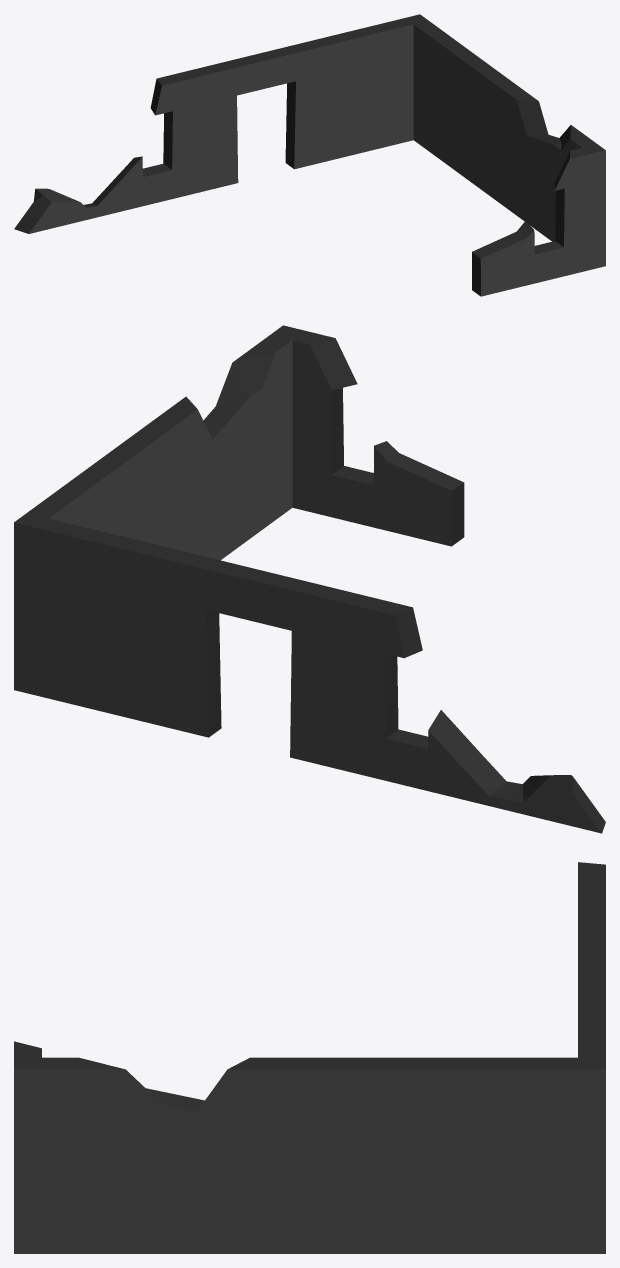
Rendered from ruin_wall_1.glb.
The picture shows the model from 3 angles, top to bottom: view 1: azimuth 30°, elevation 25°; view 2: azimuth 150°, elevation 25°; view 3: azimuth 270°, elevation 25°; orthographic projection. The views are drawn at different scales.
Visible parts, largest first — view 1: ruin_walls_1_atlass_1_0; view 2: ruin_walls_1_atlass_1_0; view 3: ruin_walls_1_atlass_1_0.
Boxes of the visible parts, x1=… form: ruin_walls_1_atlass_1_0: x1=14, y1=14, x2=605, y2=296; ruin_walls_1_atlass_1_0: x1=14, y1=325, x2=605, y2=833; ruin_walls_1_atlass_1_0: x1=14, y1=862, x2=605, y2=1253.
Size of the model in its own units: 16.34 by 4.45 by 12.96.
Materials: 1 (1 with a texture image).
